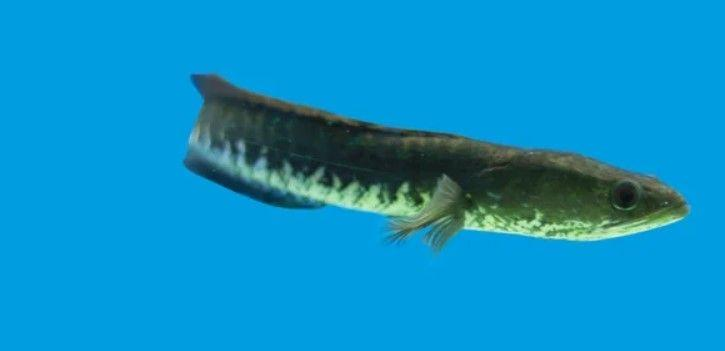Mudfish: (172, 54, 690, 263)
